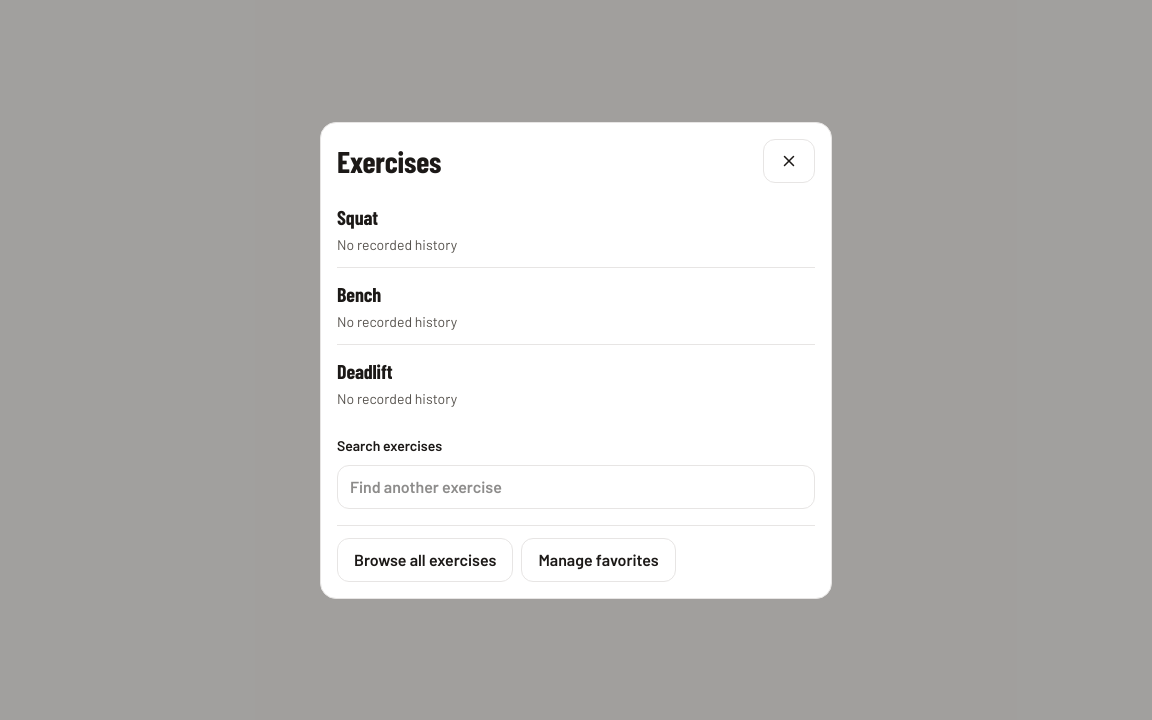
bounded graph exercise chooser › keeps the query after failure and offers retry
Type "bench" into the search field labelled "Search exercises".
click(576, 486); type("bench")  # box [337,464,815,508]
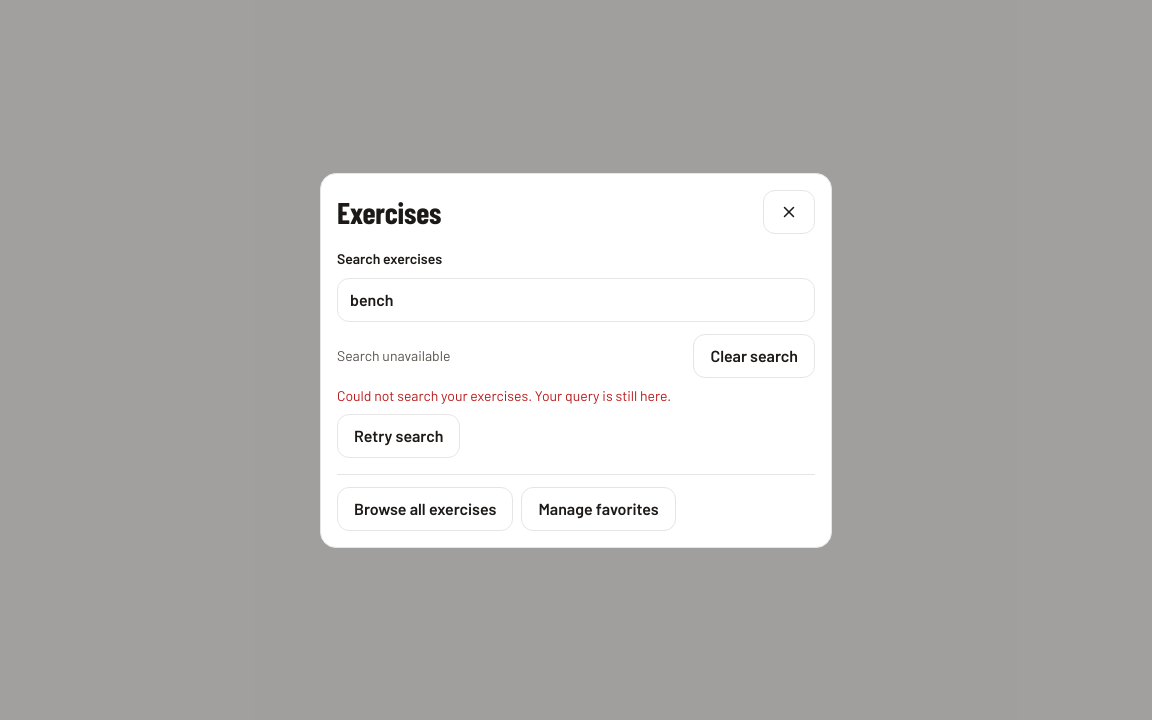
Check: the message "Could not search your exercises. Your query is still here." is shown, box [337,386,671,404]
Check: the button "Retry search" is shown, box [337,414,460,458]
